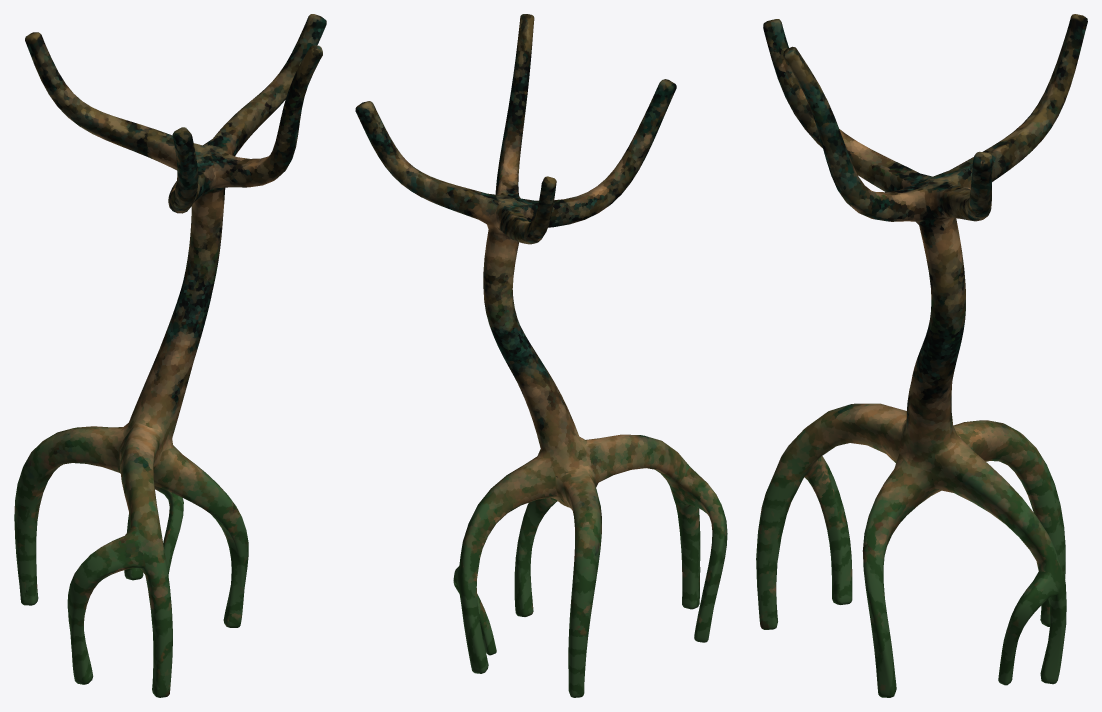
Rendered from Tree_common.fbx.
3 renders of one model, left to right at view 1: azimuth 30°, elevation 25°; view 2: azimuth 150°, elevation 25°; view 3: azimuth 270°, elevation 25°, orthographic. The views are drawn at different scales.
Parts seen in each view (by area): view 1: pCube42; view 2: pCube42; view 3: pCube42.
Part boxes in pixels (bbox=[...]): pCube42: bbox=[14, 14, 326, 697]; pCube42: bbox=[355, 14, 727, 697]; pCube42: bbox=[756, 14, 1087, 697].
Size of the model in its own units: 9.5 by 16.97 by 7.62.
